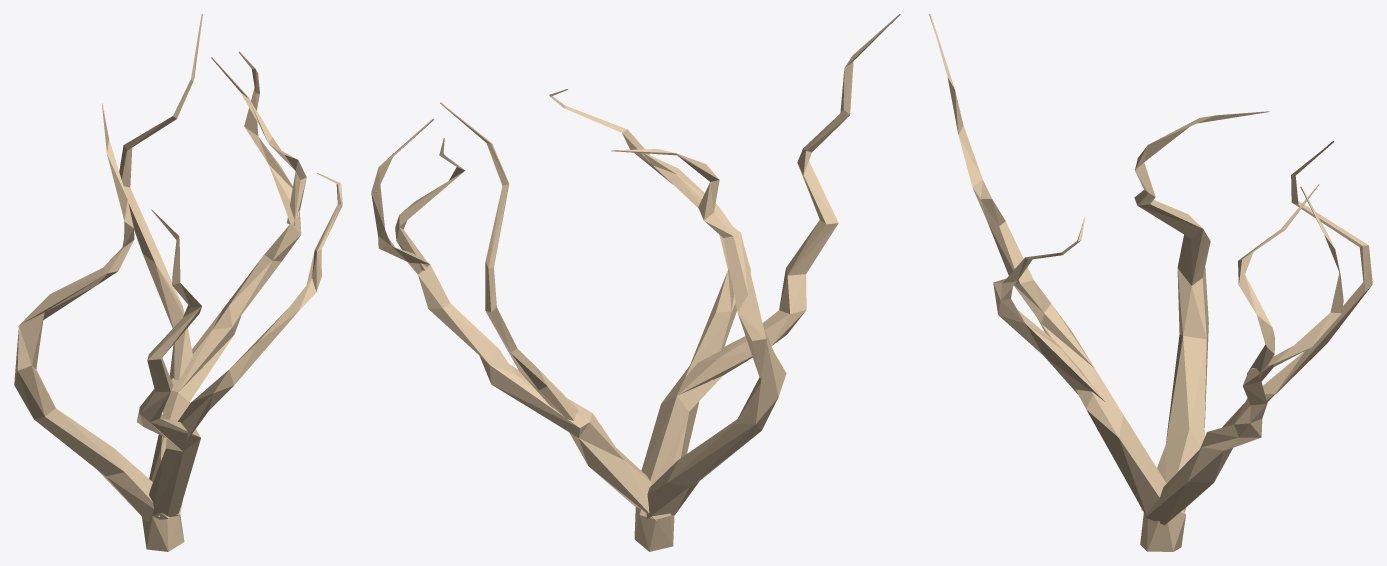
The model's file is _ried_shrub.fbx.
3 views of the same model, side by side, from view 1: azimuth 30°, elevation 25°; view 2: azimuth 150°, elevation 25°; view 3: azimuth 270°, elevation 25° (orthographic). The views are drawn at different scales.
Visible parts, largest first — view 1: tree.003; view 2: tree.003; view 3: tree.003.
Boxes of the visible parts, x1,y1,x2,y2 form: tree.003: [14, 14, 342, 551]; tree.003: [371, 14, 900, 551]; tree.003: [929, 14, 1372, 551].
Size of the model in its own units: 66.67 by 86.58 by 73.57.
